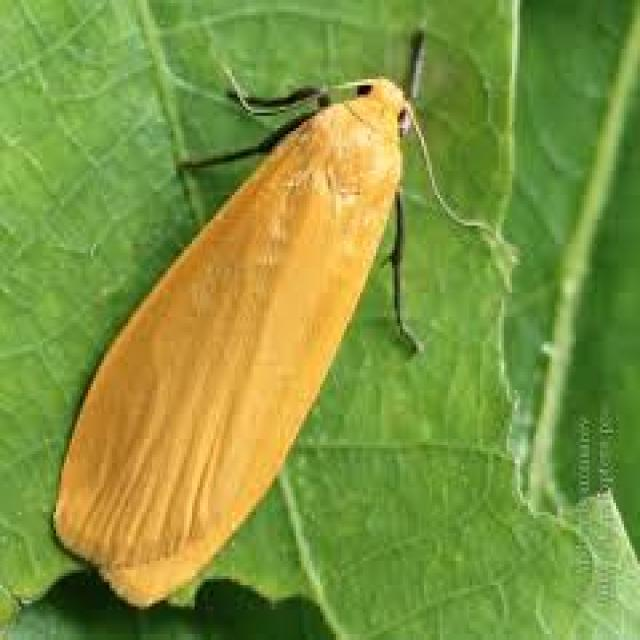yellow-stem-borer: (42, 20, 482, 616)
